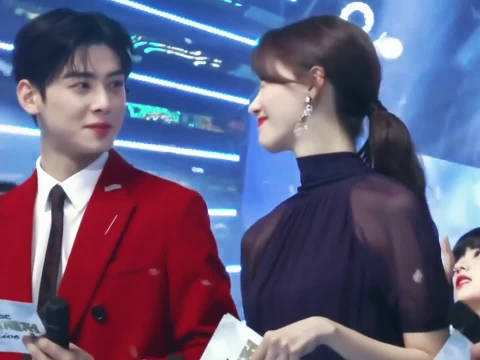person: (233, 14, 430, 323), (3, 18, 197, 328)
